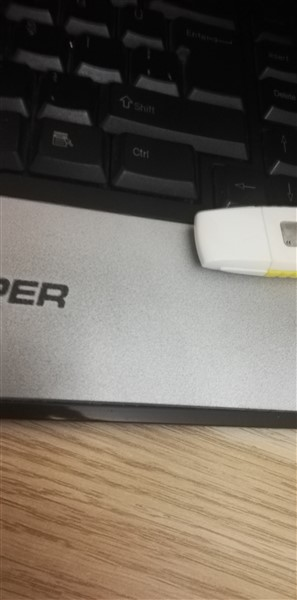flash disk: (191, 204, 297, 285)
klavye: (1, 1, 294, 435)
